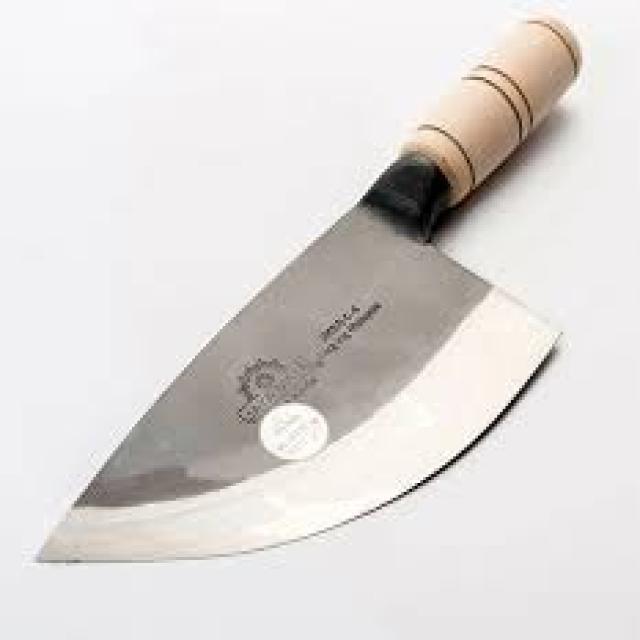Knife: (36, 15, 580, 560)
